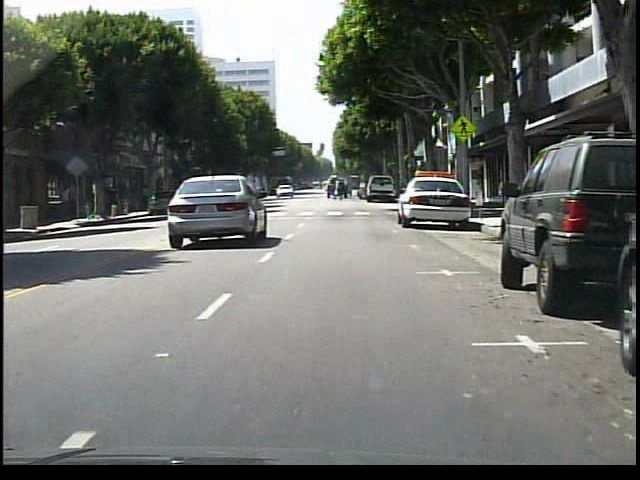person: (61, 183, 72, 217), (104, 188, 116, 218), (101, 186, 111, 216), (338, 176, 339, 198)
